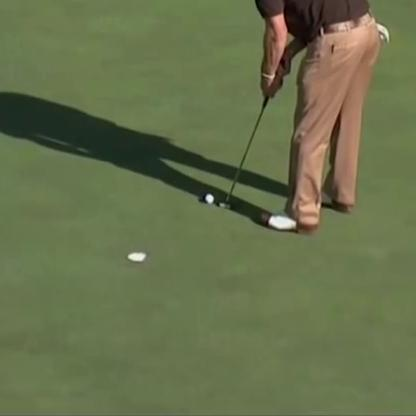golfball: (203, 190, 213, 201)
